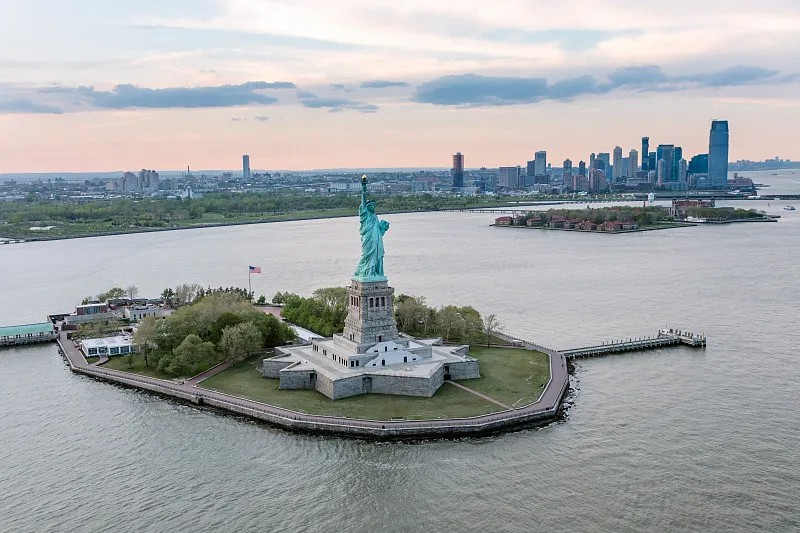SL: (343, 174, 398, 344)
